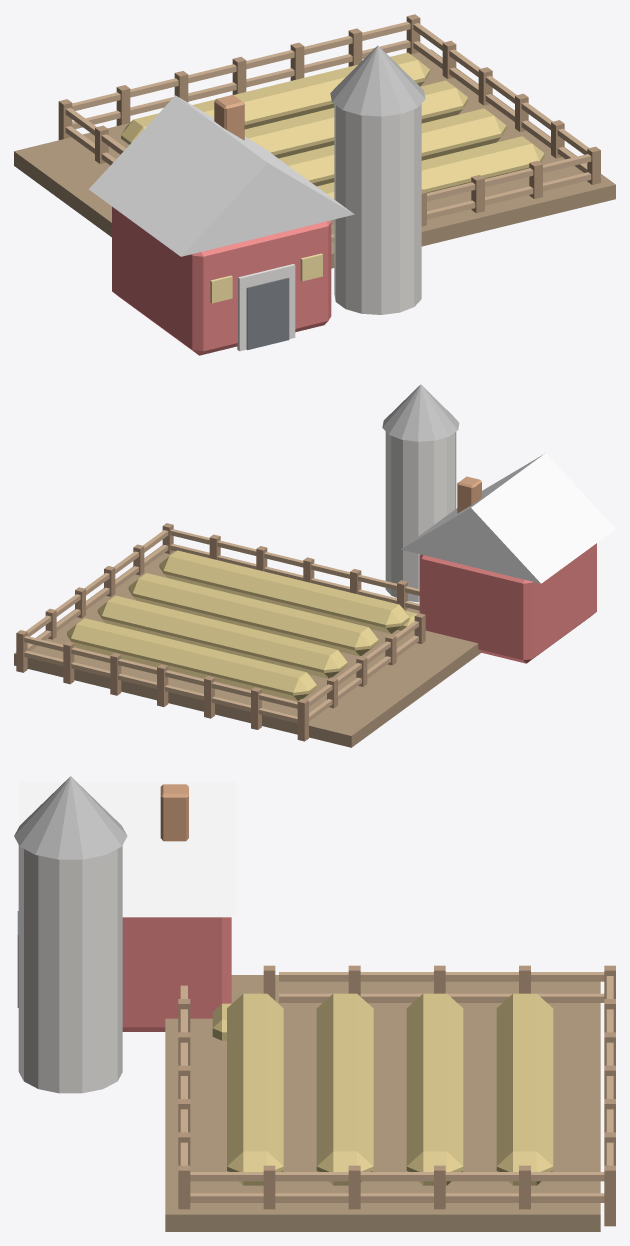
The model's file is farm.glb.
3 views of the same model, one above another, from view 1: azimuth 30°, elevation 25°; view 2: azimuth 150°, elevation 25°; view 3: azimuth 270°, elevation 25° (orthographic). The views are drawn at different scales.
Visible parts, largest first — view 1: main; view 2: main; view 3: main.
Part boxes in pixels (box(x1,y1,x2,y2)): main: box(14, 14, 615, 355); main: box(14, 384, 615, 747); main: box(14, 776, 615, 1231).
Bounding box in the file's own units: 1.43 × 0.69 × 1.27.
